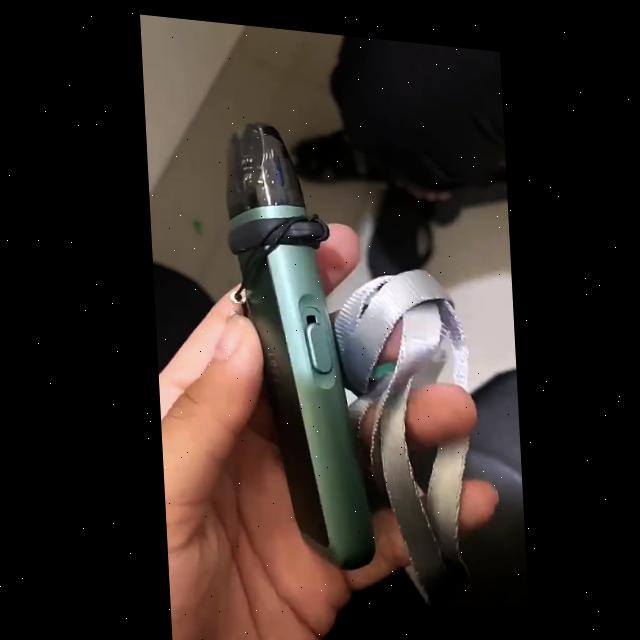vape: (218, 111, 374, 567)
